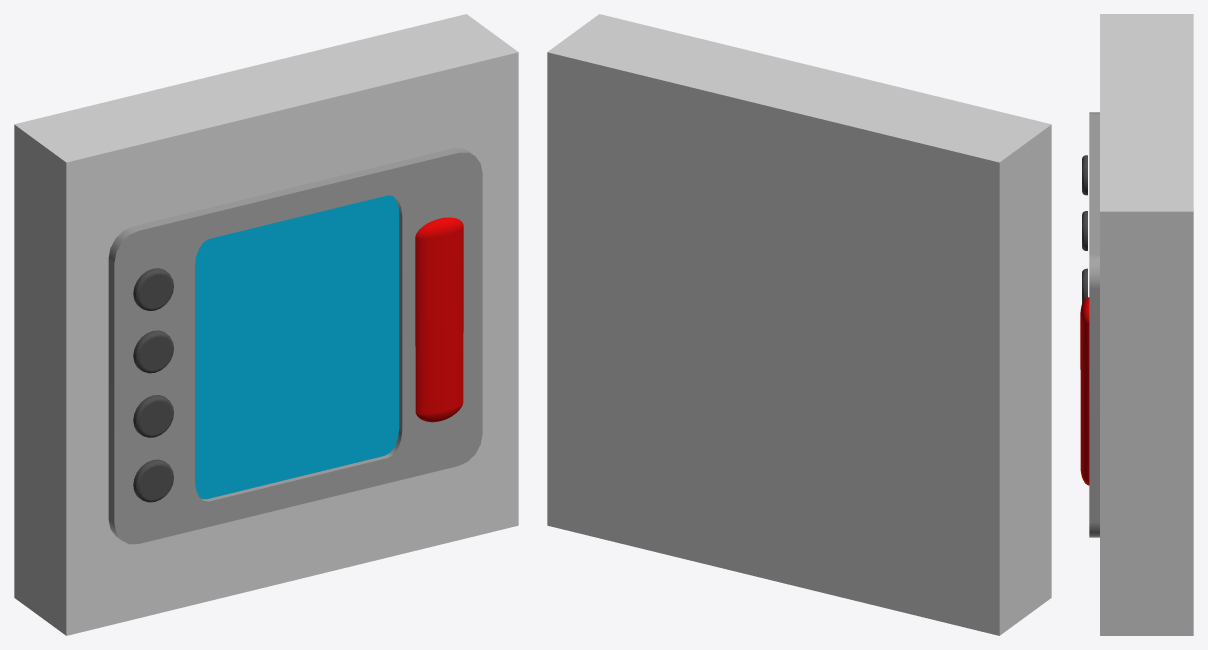
File: Wall_Screen.fbx
The picture shows the model from 3 angles, left to right: view 1: azimuth 30°, elevation 25°; view 2: azimuth 150°, elevation 25°; view 3: azimuth 270°, elevation 25°; orthographic projection. The views are drawn at different scales.
Visible parts, largest first — view 1: Wall_Floor4, pSphere24, pCylinder26, pCylinder23, pCylinder25, pCylinder24; view 2: Wall_Floor4; view 3: Wall_Floor4, pSphere24, pCylinder23, pCylinder24, pCylinder25.
Part boxes in pixels (x1,y1,x2,y2): Wall_Floor4: (14, 14, 518, 635); pSphere24: (415, 217, 463, 422); pCylinder26: (133, 459, 173, 502); pCylinder23: (133, 268, 173, 310); pCylinder25: (133, 395, 173, 437); pCylinder24: (133, 330, 173, 373); Wall_Floor4: (547, 14, 1051, 635); Wall_Floor4: (1089, 14, 1193, 635); pSphere24: (1080, 297, 1089, 485); pCylinder23: (1082, 155, 1087, 195); pCylinder24: (1082, 211, 1087, 250); pCylinder25: (1082, 268, 1087, 303).
Bounding box in the file's own units: 5 × 1.21 × 5.
